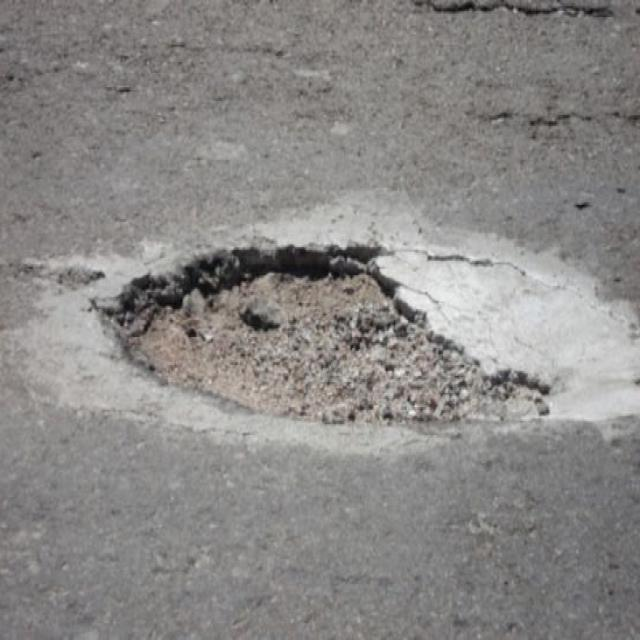Pothole: (96, 223, 557, 448)
